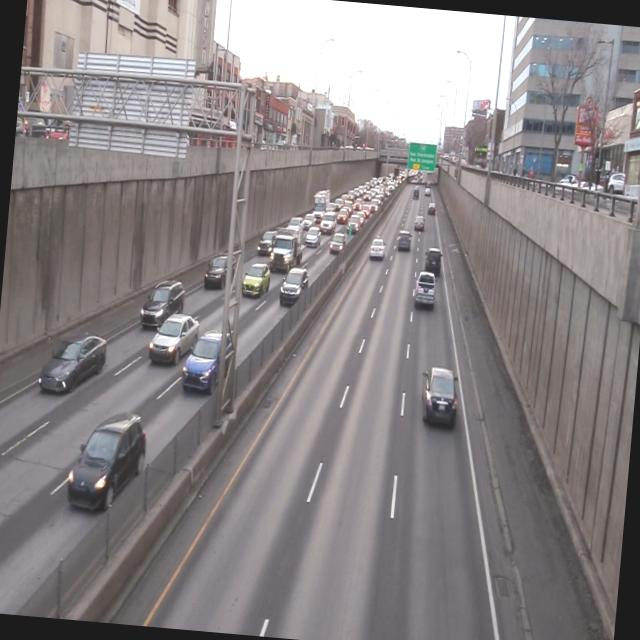Vehicle: (64, 406, 146, 520), (37, 323, 107, 408), (179, 324, 237, 400), (146, 314, 200, 371), (138, 274, 186, 331), (420, 366, 459, 428), (268, 223, 306, 275), (202, 248, 236, 294), (278, 266, 308, 307), (240, 262, 270, 300), (412, 269, 438, 310), (422, 244, 445, 273), (256, 228, 276, 256), (368, 236, 387, 262), (328, 232, 348, 255), (285, 214, 304, 236), (304, 225, 322, 248), (396, 229, 412, 253), (412, 212, 426, 232)
